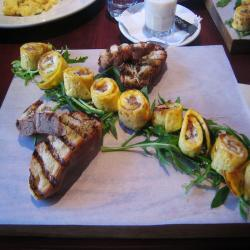salad: (133, 130, 180, 158)
